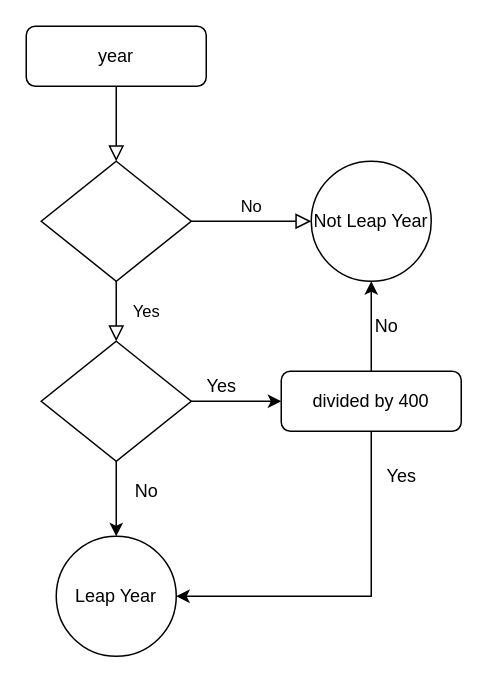
Image size: 488x683. Some labels were removed from this diagram. The shapes that lost their labels are listed below. From the top down, each one's box as (x1, y1, x2, y2) in pixels, then its label:
(40, 160, 191, 281): divided by 4
(40, 340, 191, 461): divided by 100
